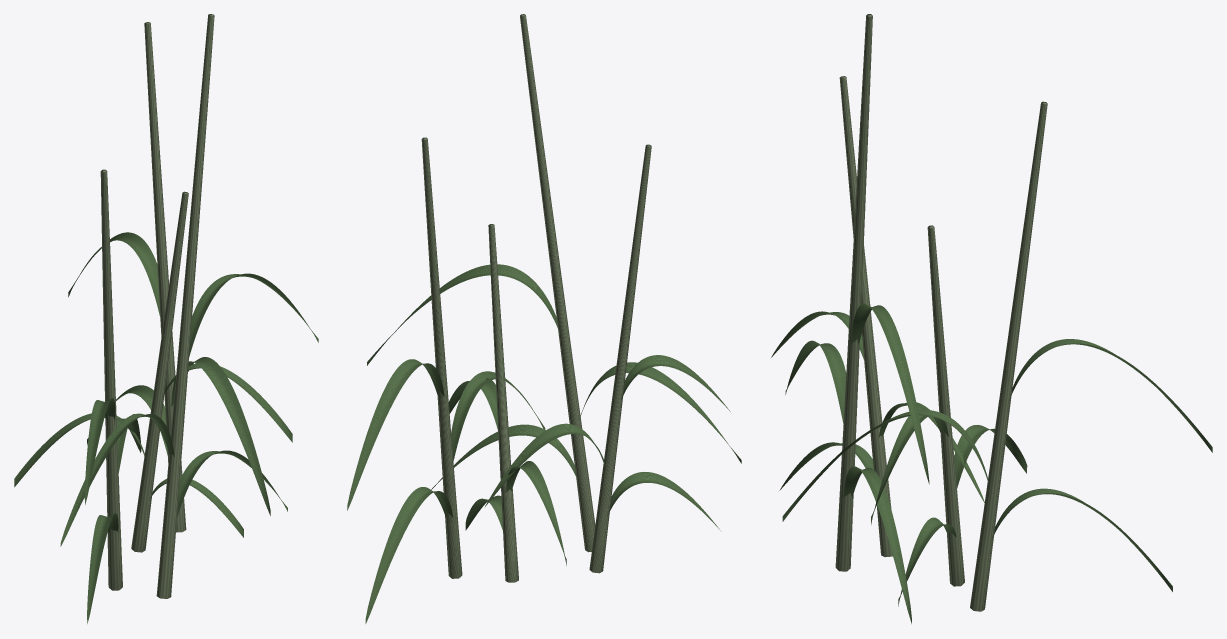
Rendered from saccharum-1.glb.
3 views of the same model, side by side, from view 1: azimuth 30°, elevation 25°; view 2: azimuth 150°, elevation 25°; view 3: azimuth 270°, elevation 25° (orthographic). The views are drawn at different scales.
Visible parts, largest first — view 1: stem, grass-leaf; view 2: stem, grass-leaf; view 3: stem, grass-leaf.
Boxes of the visible parts, x1,y1,x2,y2 form: stem: (100, 14, 214, 598); grass-leaf: (14, 232, 318, 623); stem: (421, 14, 651, 582); grass-leaf: (347, 264, 741, 623); stem: (835, 14, 1047, 611); grass-leaf: (771, 303, 1212, 623).
Size of the model in its own units: 0.1818 by 0.2973 by 0.2041.
Materials: 2 (2 with a texture image).
